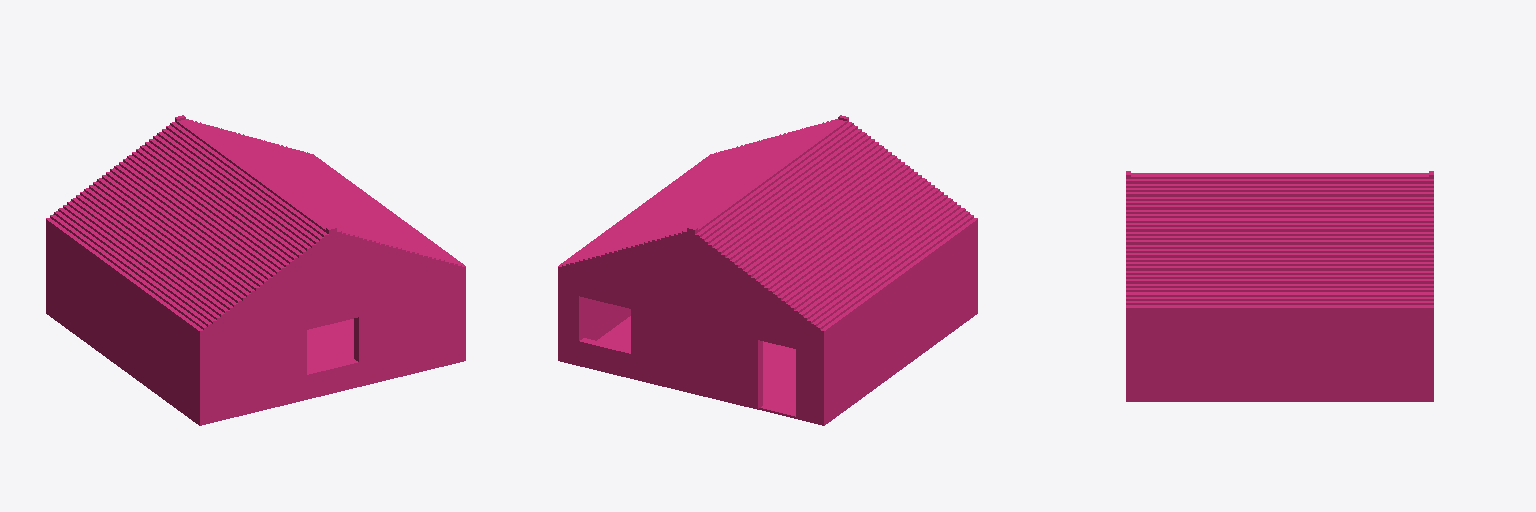
3 views of the same model, side by side, from view 1: azimuth 30°, elevation 25°; view 2: azimuth 150°, elevation 25°; view 3: azimuth 270°, elevation 25° (orthographic).
Visible parts, largest first — view 1: object 1; view 2: object 1; view 3: object 1.
Part boxes in pixels (x1,y1,x2,y2): object 1: (46,115,465,425); object 1: (558,115,977,425); object 1: (1126,171,1433,401).
Size of the model in its own units: 12.4 by 7.4 by 12.4.
Materials: 1 (1 with a texture image).